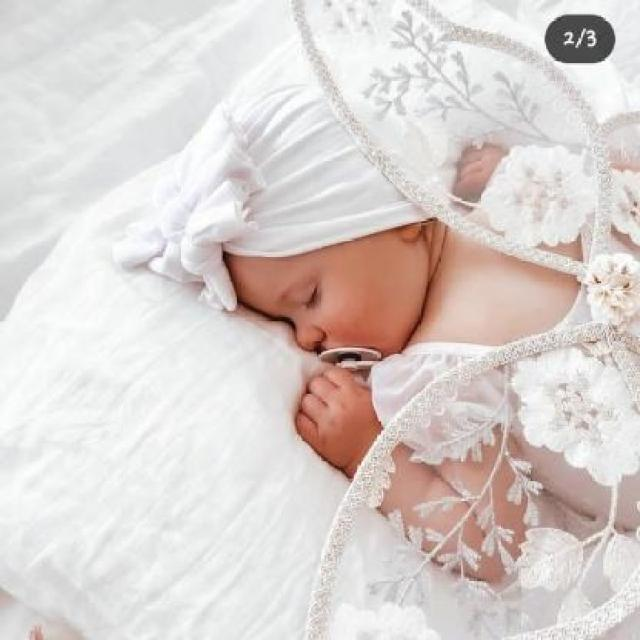baby: (189, 60, 637, 574)
